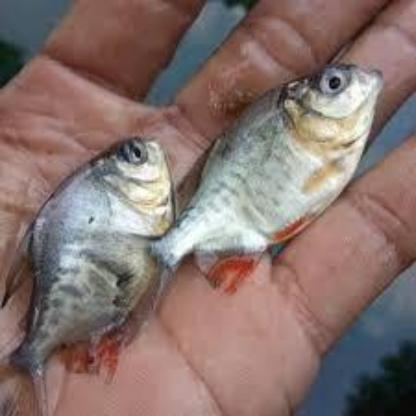ikan-pacu: (173, 56, 382, 272), (0, 132, 176, 388)
